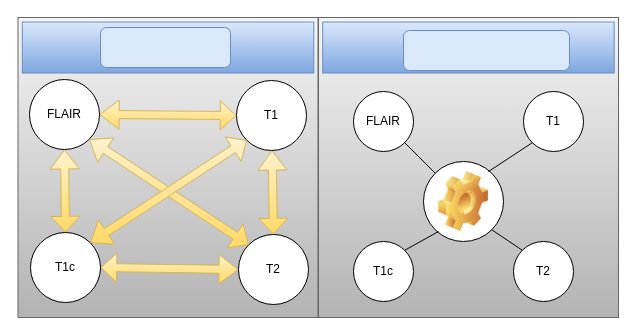
Some shapes in this 636 by 335 pixel diagram are drawn without their labels. Each missing label, with the box of its shape:
SIMO/MIMO/MISO: (402, 30, 570, 70)
SISO: (100, 26, 230, 68)
